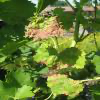grape leaf black rot: (33, 41, 87, 70), (21, 15, 65, 42), (46, 72, 87, 97), (53, 8, 76, 30)
